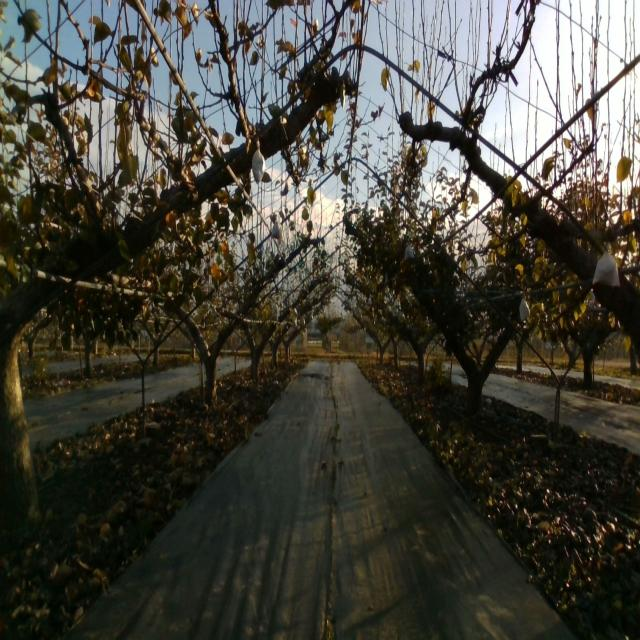pearbags: (591, 242, 621, 288), (251, 142, 266, 184), (518, 297, 531, 321), (270, 220, 284, 240)
